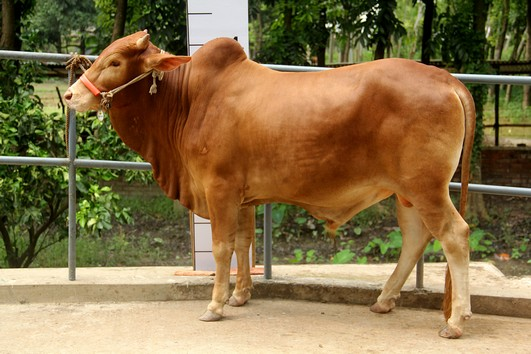cow: (57, 20, 489, 344)
